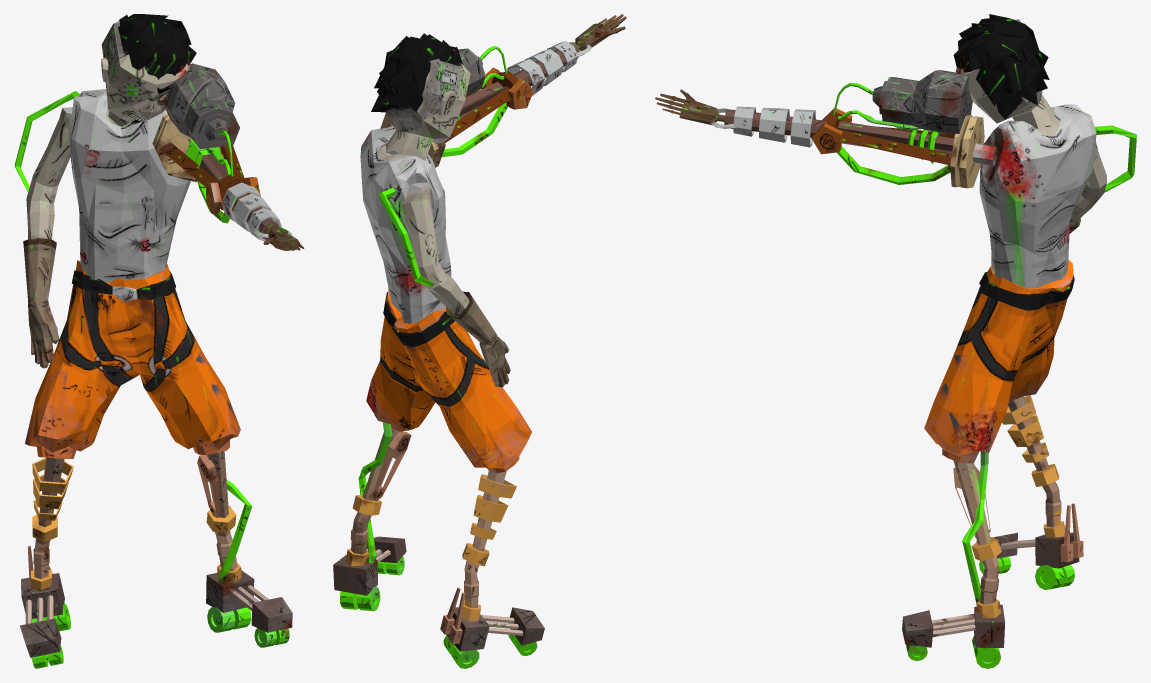
The model's file is CyborgFINALAnimation_000124.obj.
3 renders of one model, left to right at view 1: azimuth 30°, elevation 25°; view 2: azimuth 150°, elevation 25°; view 3: azimuth 270°, elevation 25°, orthographic. The views are drawn at different scales.
Visible parts, largest first — view 1: CyborgMesh_Cube.002; view 2: CyborgMesh_Cube.002; view 3: CyborgMesh_Cube.002.
Boxes of the visible parts, box(x1,y1,x2,y2) form: CyborgMesh_Cube.002: box(14, 14, 304, 668); CyborgMesh_Cube.002: box(333, 14, 626, 668); CyborgMesh_Cube.002: box(655, 14, 1136, 668).
Bounding box in the file's own units: 3.52 × 9.41 × 6.78.
